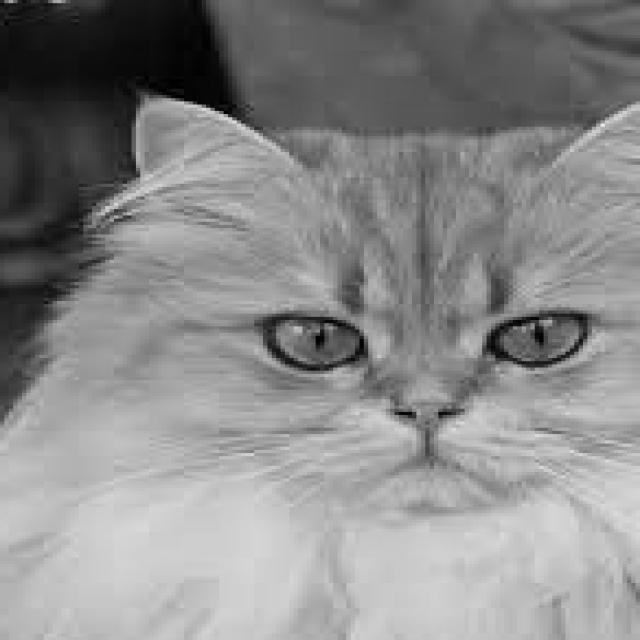british: (74, 38, 640, 545)
